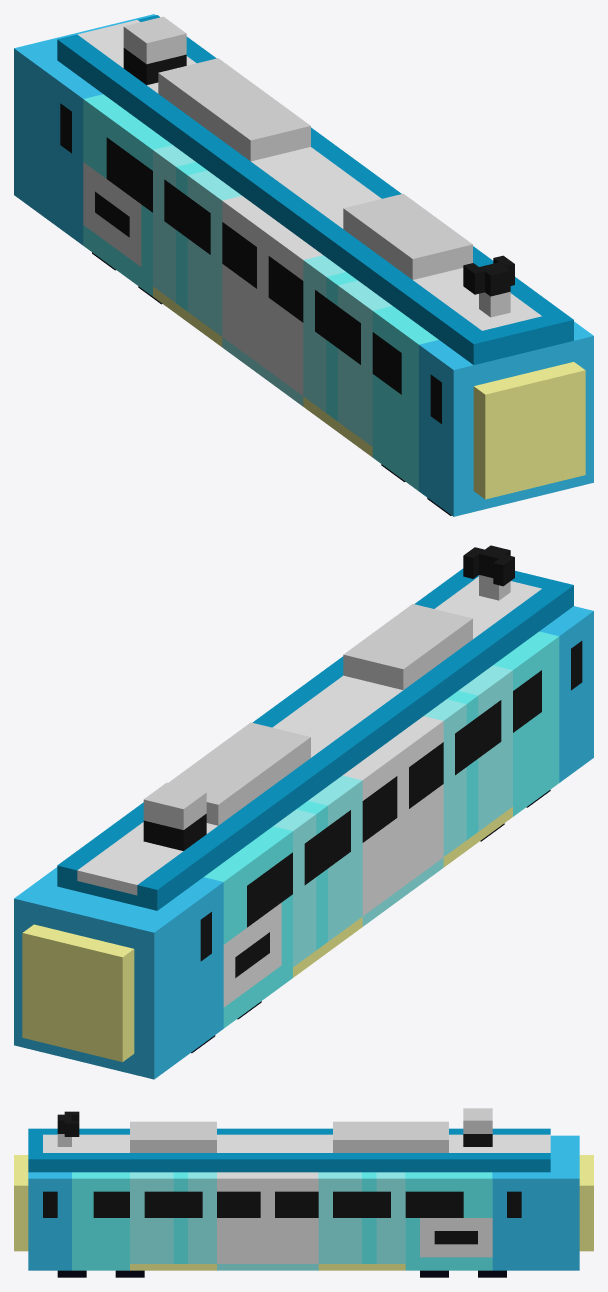
File: roady_cross_assets-1.obj
3 renders of one model, top to bottom at view 1: azimuth 30°, elevation 25°; view 2: azimuth 150°, elevation 25°; view 3: azimuth 270°, elevation 25°, orthographic. The views are drawn at different scales.
Bounding box in the file's own units: 1.4 × 2.2 × 8.
Materials: 1 (1 with a texture image).
